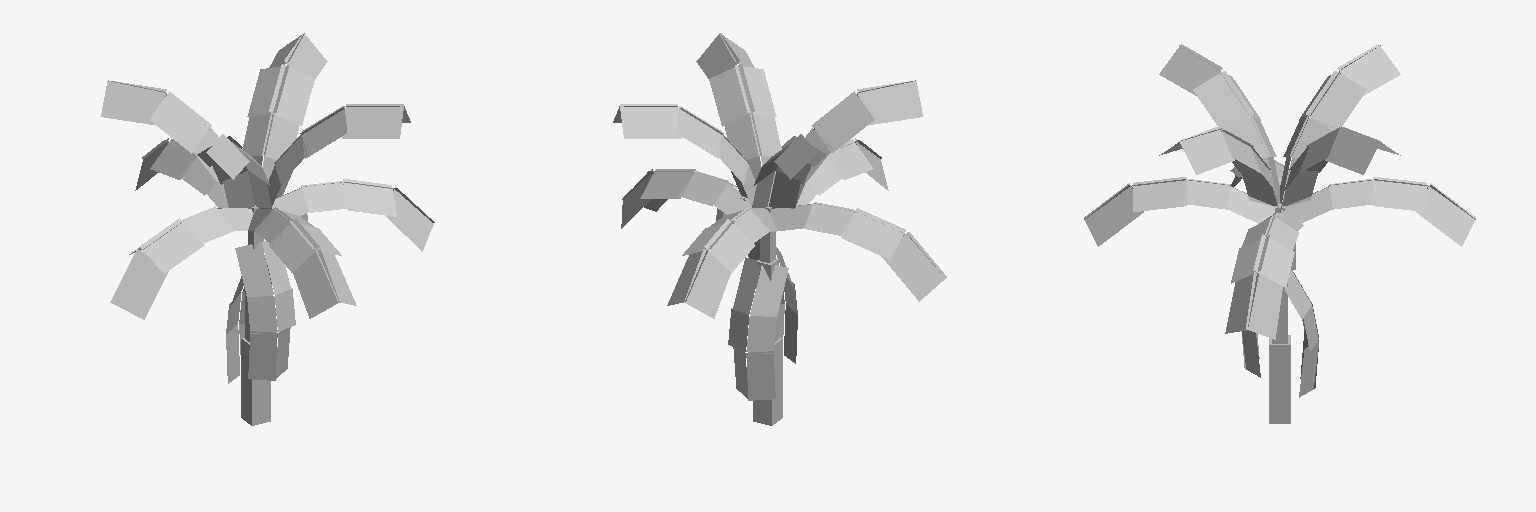
Rendered from bananeira.obj.
The picture shows the model from 3 angles: view 1: azimuth 30°, elevation 25°; view 2: azimuth 150°, elevation 25°; view 3: azimuth 270°, elevation 25°; orthographic projection.
Parts seen in each view (by area): view 1: folha4, folha3, folha2, folha_seca3, folha_seca1, folha_seca2, base1, folha5, folha1; view 2: folha4, folha3, folha2, folha_seca3, folha1, folha_seca1, folha_seca2, folha5, base1; view 3: folha4, folha3, folha2, folha1, base1, folha_seca3, folha_seca1.
Part boxes in pixels (left/top/right/bottom): folha4: left=101, top=33, right=434, bottom=319; folha3: left=129, top=64, right=396, bottom=273; folha2: left=180, top=113, right=350, bottom=244; folha_seca3: left=226, top=324, right=290, bottom=383; folha_seca1: left=230, top=241, right=290, bottom=306; folha_seca2: left=226, top=288, right=295, bottom=333; base1: left=241, top=338, right=270, bottom=425; folha5: left=218, top=156, right=292, bottom=208; folha1: left=217, top=156, right=301, bottom=230; folha4: left=613, top=33, right=946, bottom=318; folha3: left=640, top=64, right=905, bottom=272; folha2: left=679, top=113, right=854, bottom=243; folha_seca3: left=733, top=304, right=797, bottom=400; folha1: left=714, top=156, right=816, bottom=231; folha_seca1: left=733, top=239, right=793, bottom=316; folha_seca2: left=728, top=278, right=797, bottom=353; folha5: left=731, top=156, right=805, bottom=208; base1: left=753, top=338, right=782, bottom=425; folha4: left=1084, top=44, right=1475, bottom=339; folha3: left=1132, top=71, right=1427, bottom=287; folha2: left=1184, top=116, right=1375, bottom=252; folha1: left=1227, top=157, right=1332, bottom=231; base1: left=1269, top=335, right=1290, bottom=423; folha_seca3: left=1241, top=330, right=1318, bottom=397; folha_seca1: left=1285, top=270, right=1312, bottom=319.
Size of the model in its own units: 4.26 by 4.11 by 4.47.